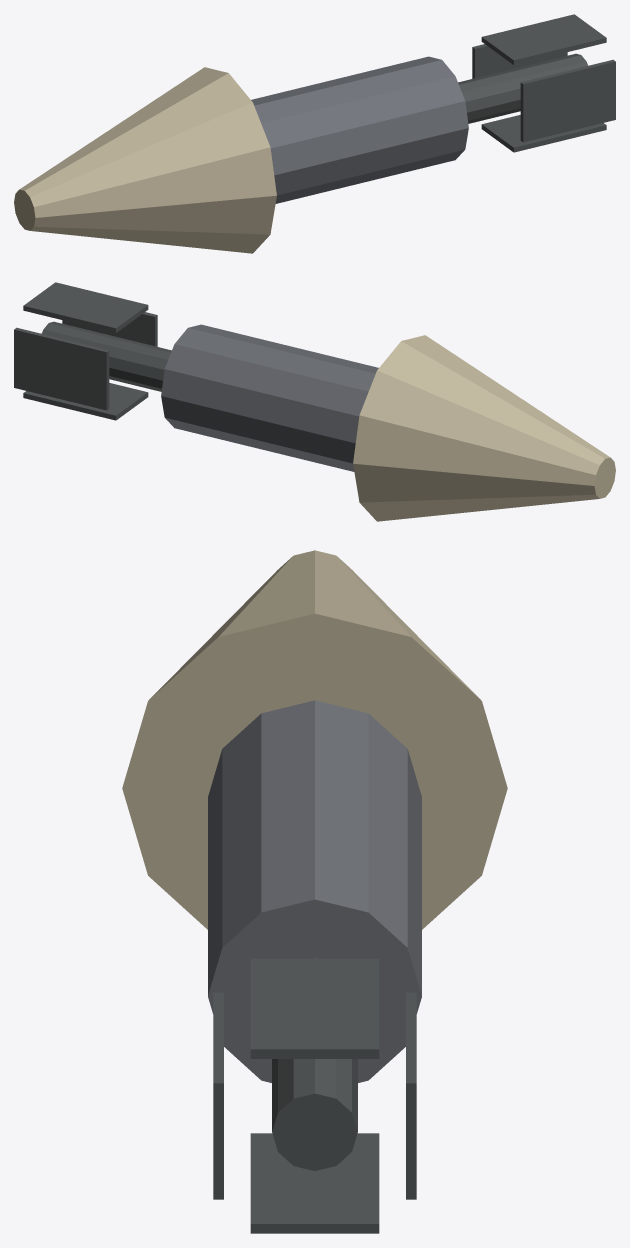
Rendered from RPG_Warhead.fbx.
3 views of the same model, one above another, from view 1: azimuth 30°, elevation 25°; view 2: azimuth 150°, elevation 25°; view 3: azimuth 270°, elevation 25° (orthographic). The views are drawn at different scales.
Visible parts, largest first — view 1: RPG_Warhead_Nose, RPG_Warhead_Body, RPG_Warhead_Fin2, RPG_Warhead_Fin1, RPG_Warhead_Stem, RPG_Warhead_Fin3, RPG_Warhead_Fin0; view 2: RPG_Warhead_Nose, RPG_Warhead_Body, RPG_Warhead_Fin0, RPG_Warhead_Fin1, RPG_Warhead_Stem, RPG_Warhead_Fin3, RPG_Warhead_Fin2; view 3: RPG_Warhead_Nose, RPG_Warhead_Body, RPG_Warhead_Fin1, RPG_Warhead_Fin3, RPG_Warhead_Stem, RPG_Warhead_Fin0, RPG_Warhead_Fin2.
Boxes of the visible parts, box(x1,y1,x2,y2) form: RPG_Warhead_Nose: box(14, 67, 276, 253); RPG_Warhead_Body: box(251, 56, 468, 203); RPG_Warhead_Fin2: box(520, 59, 615, 142); RPG_Warhead_Fin1: box(481, 14, 606, 64); RPG_Warhead_Stem: box(458, 53, 587, 123); RPG_Warhead_Fin3: box(481, 115, 606, 152); RPG_Warhead_Fin0: box(472, 44, 567, 78); RPG_Warhead_Nose: box(353, 335, 615, 521); RPG_Warhead_Body: box(161, 324, 378, 471); RPG_Warhead_Fin0: box(14, 327, 109, 410); RPG_Warhead_Fin1: box(23, 282, 148, 332); RPG_Warhead_Stem: box(42, 321, 171, 391); RPG_Warhead_Fin3: box(23, 383, 148, 420); RPG_Warhead_Fin2: box(62, 312, 157, 346); RPG_Warhead_Nose: box(122, 550, 507, 929); RPG_Warhead_Body: box(208, 700, 421, 1082); RPG_Warhead_Fin1: box(250, 958, 379, 1058); RPG_Warhead_Fin3: box(250, 1133, 379, 1233); RPG_Warhead_Stem: box(272, 958, 357, 1170); RPG_Warhead_Fin0: box(406, 992, 416, 1199); RPG_Warhead_Fin2: box(213, 992, 223, 1199).
Bounding box in the file's own units: 0.61 × 0.18 × 0.18.
